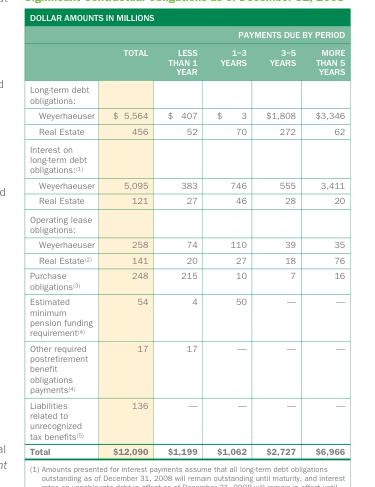table: (29, 29, 344, 456)
table column: (29, 29, 103, 456), (103, 29, 157, 456), (157, 29, 206, 456), (206, 29, 255, 456), (255, 29, 304, 456), (304, 29, 344, 456)
table column header: (29, 29, 344, 80)
table projected row header: (29, 139, 344, 177), (29, 80, 344, 107), (29, 209, 344, 236)
table row: (29, 340, 344, 396), (29, 293, 344, 340), (29, 396, 344, 443), (29, 139, 344, 177), (29, 43, 344, 80), (29, 80, 344, 107), (29, 209, 344, 236), (29, 267, 344, 293), (29, 122, 344, 139), (29, 192, 344, 209), (29, 236, 344, 252), (29, 107, 344, 122), (29, 177, 344, 192), (29, 252, 344, 267), (29, 29, 344, 43), (29, 443, 344, 456)
table spanning cell: (103, 29, 157, 80), (157, 29, 206, 80), (206, 29, 344, 43)
